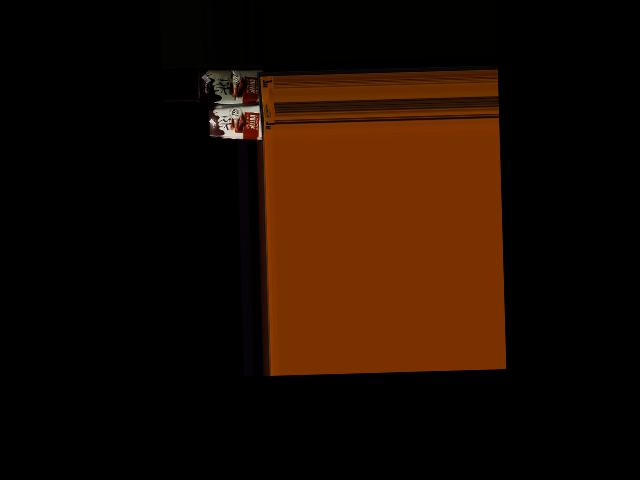chocolate: (207, 105, 268, 144)
